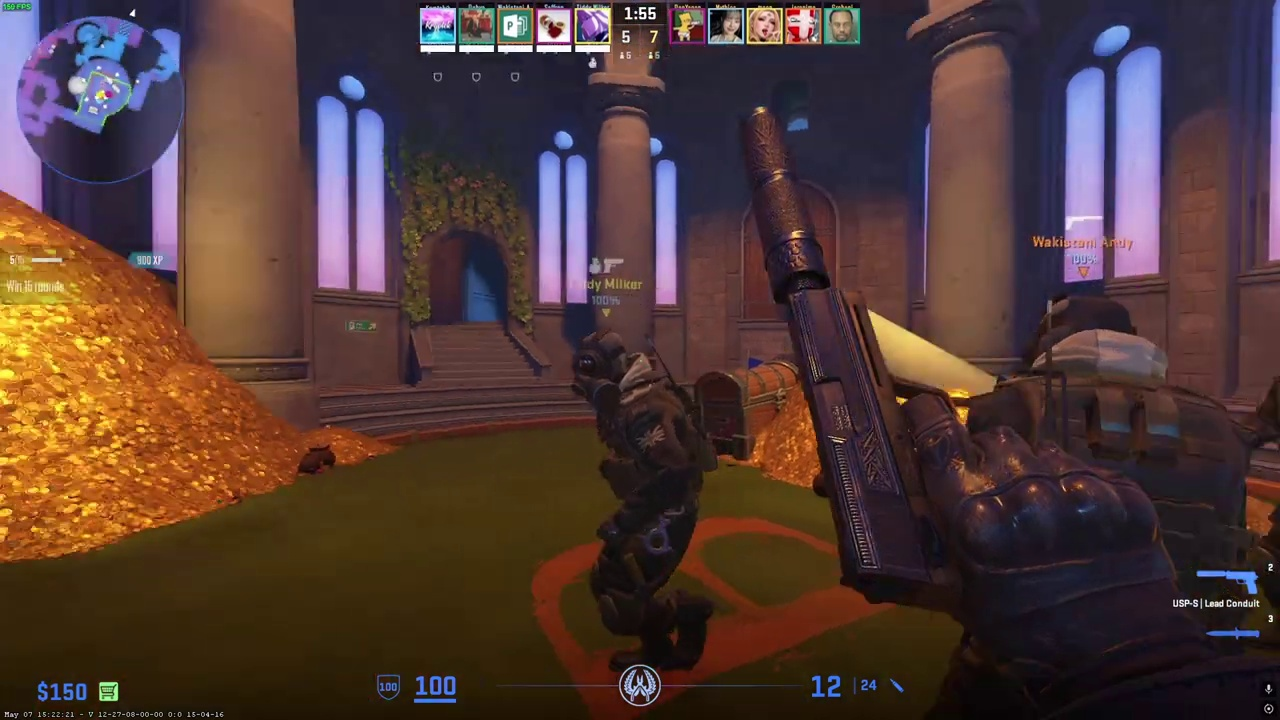CT: (968, 293, 1254, 642), (571, 329, 713, 672)
